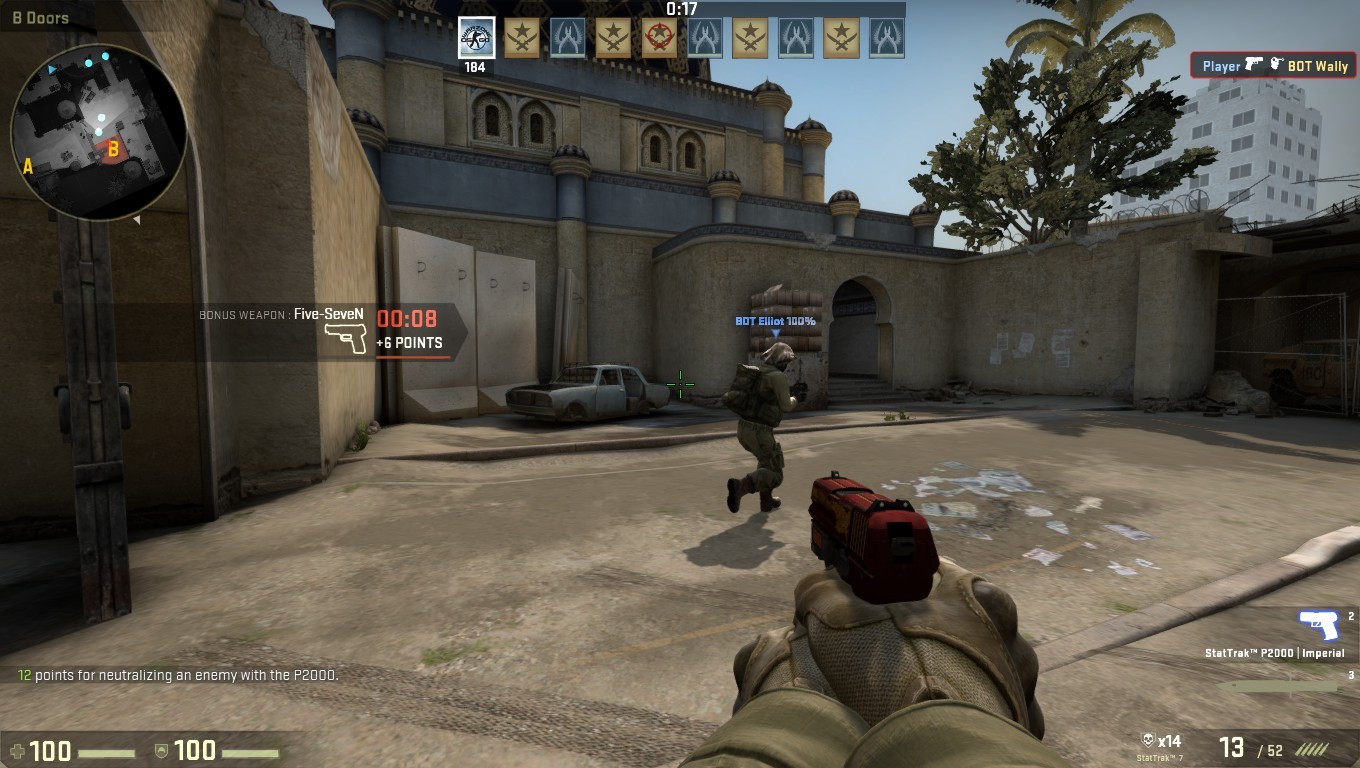c: (728, 339, 796, 511)
ch: (753, 338, 800, 377)
